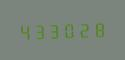eight: (93, 18, 107, 38)
four: (17, 21, 31, 41)
three: (48, 20, 62, 40), (32, 21, 46, 40)
two: (78, 19, 92, 38)
zero: (63, 19, 77, 39)
